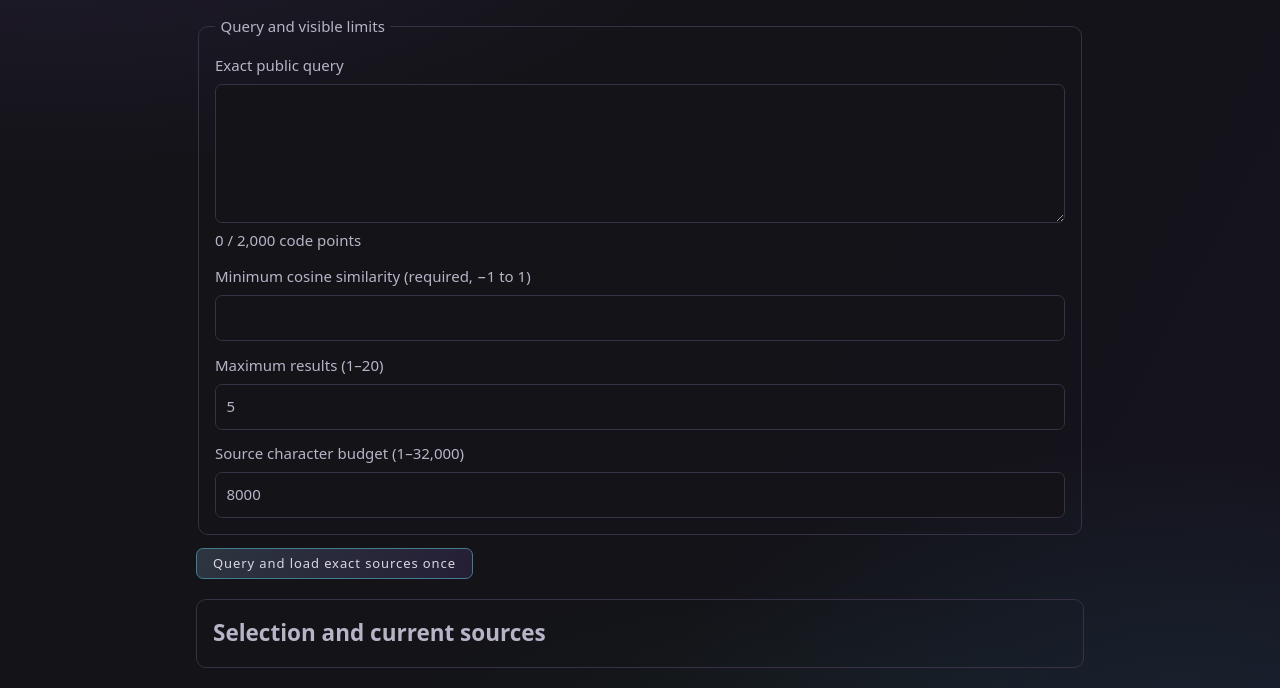
it: warns before leaving or reloading a bounds-only draft: character budget
The image size is (1280, 688).
(page scrolled)
Replace the text in the field labelled "Source character budget (1–32,000)" with "4000" at x=640, y=495, box x1=215 y1=472 x2=1065 y2=518
(page scrolled)
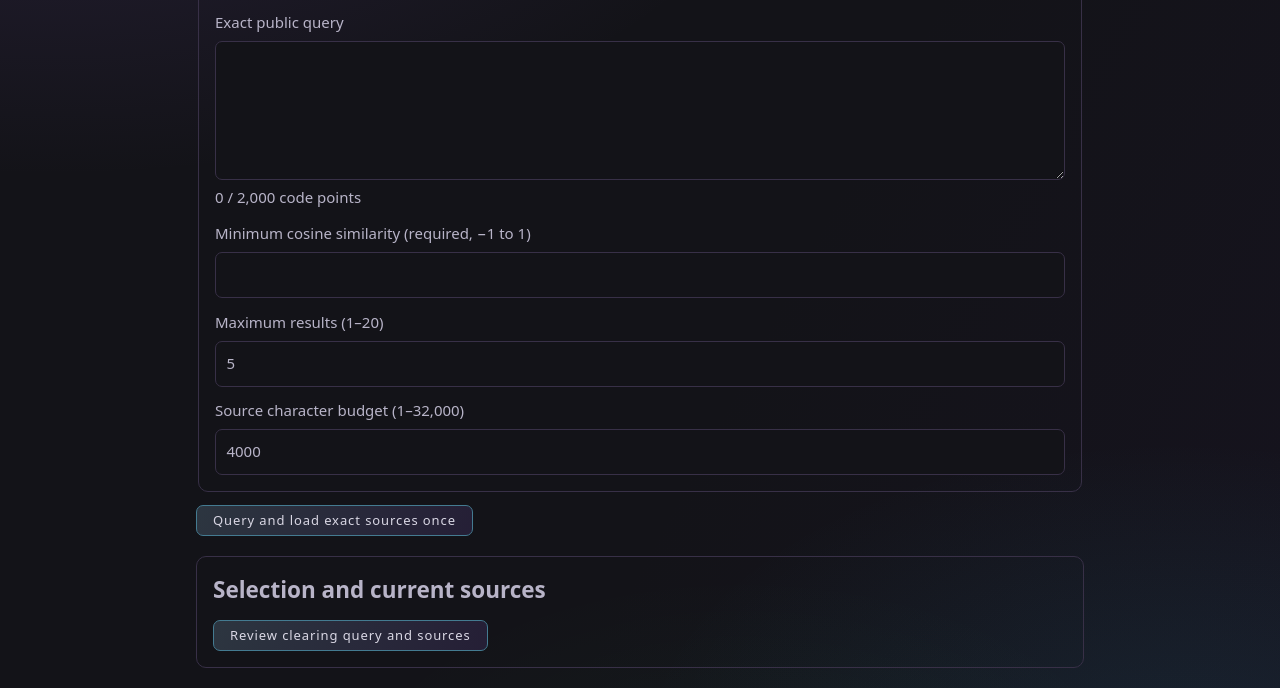
Click the button "Review clearing query and sources" at x=350, y=636, box x1=213 y1=620 x2=488 y2=652
(page scrolled)
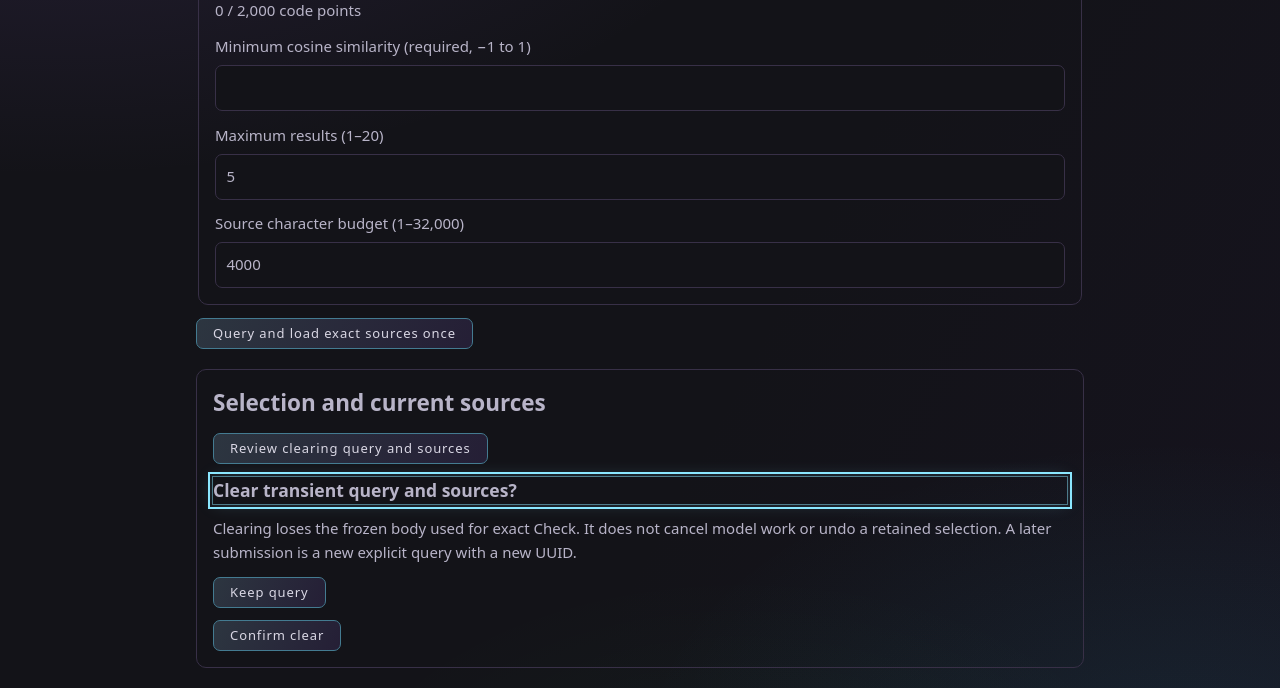
Click the button "Confirm clear" at x=277, y=636, box x1=213 y1=620 x2=341 y2=651
(page scrolled)
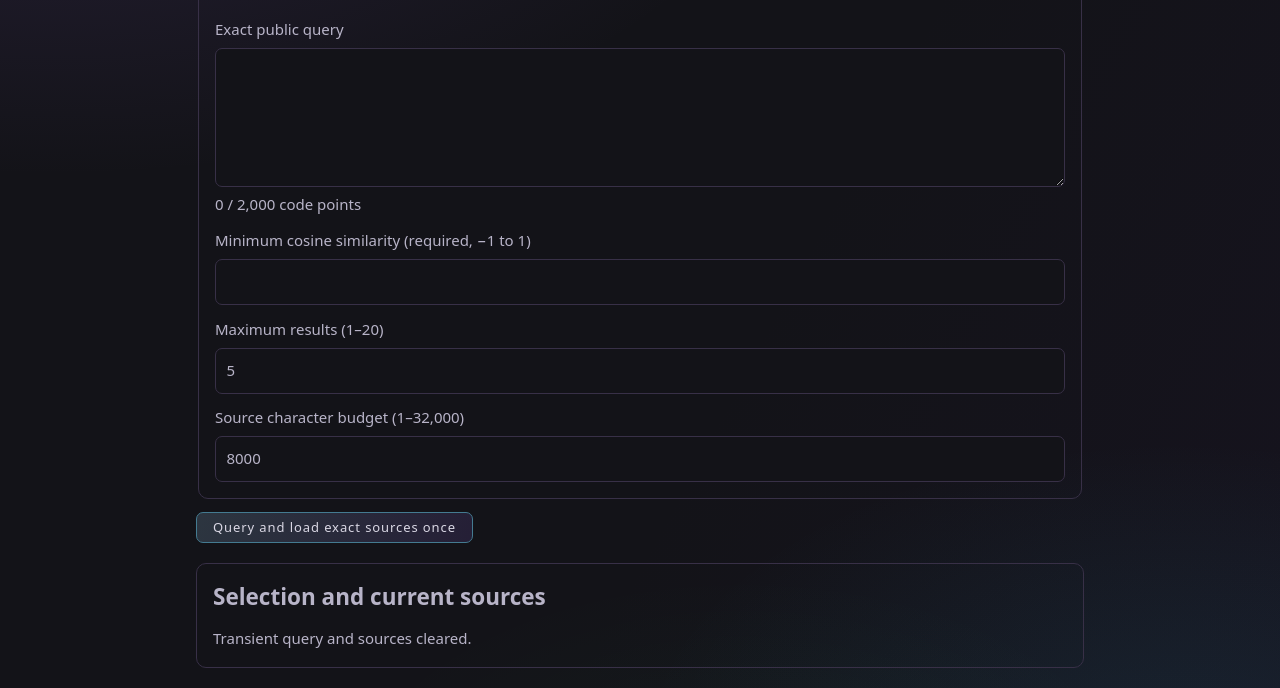
Check: the field labelled "Source character budget (1–32,000)" holds "8000", box x1=215 y1=436 x2=1065 y2=482
